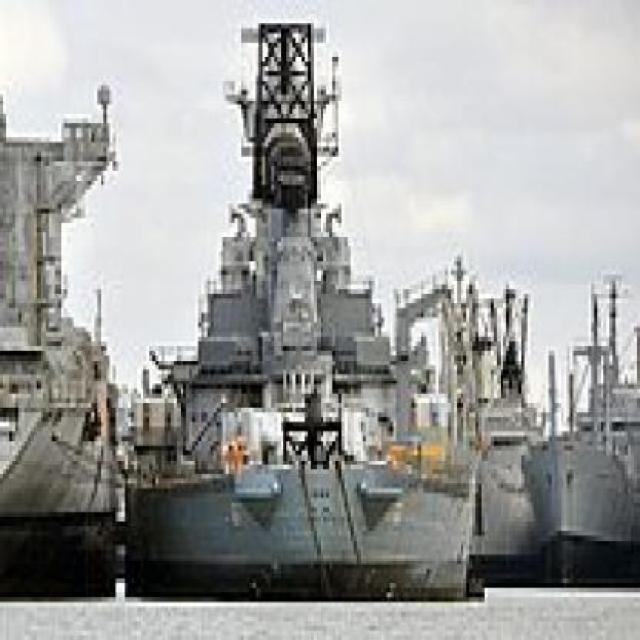warship2: (129, 15, 492, 618)
